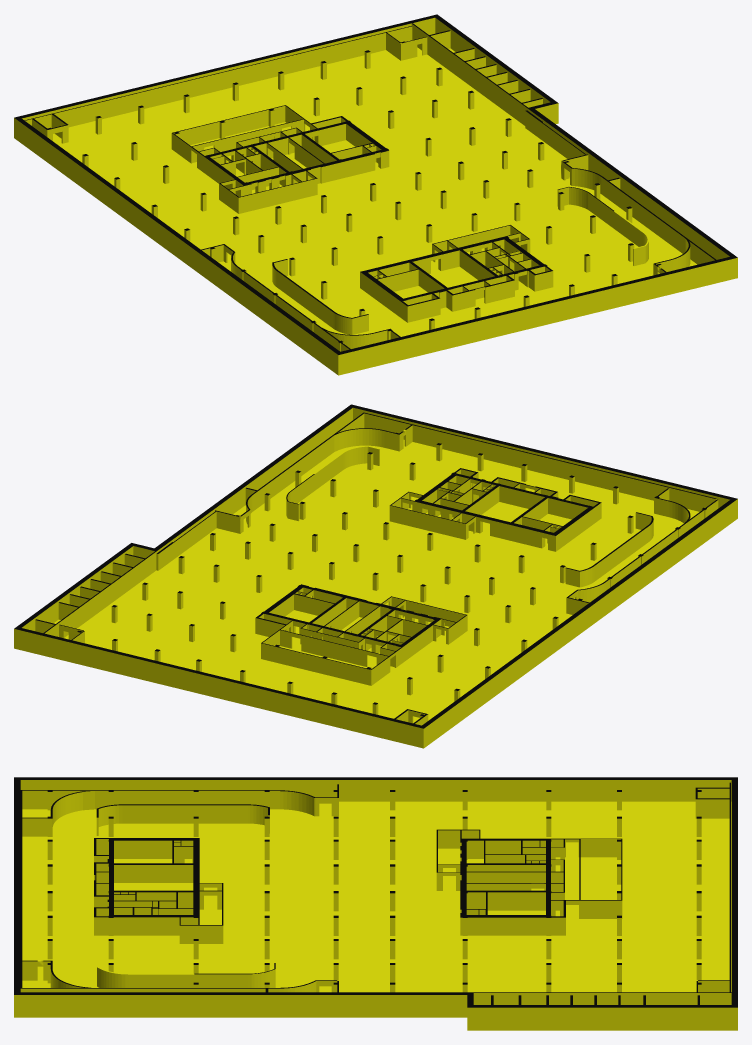
File: sm_hana_building_b4f.glb
3 renders of one model, top to bottom at view 1: azimuth 30°, elevation 25°; view 2: azimuth 150°, elevation 25°; view 3: azimuth 270°, elevation 25°, orthographic. The views are drawn at different scales.
Visible parts, largest first — view 1: sm_hana_building_b4f; view 2: sm_hana_building_b4f; view 3: sm_hana_building_b4f.
Boxes of the visible parts, x1=… form: sm_hana_building_b4f: x1=14, y1=14, x2=737, y2=375; sm_hana_building_b4f: x1=14, y1=404, x2=737, y2=748; sm_hana_building_b4f: x1=14, y1=777, x2=737, y2=1030.
Size of the model in its own units: 86.61 by 4 by 115.
3 materials, 2 textured.
